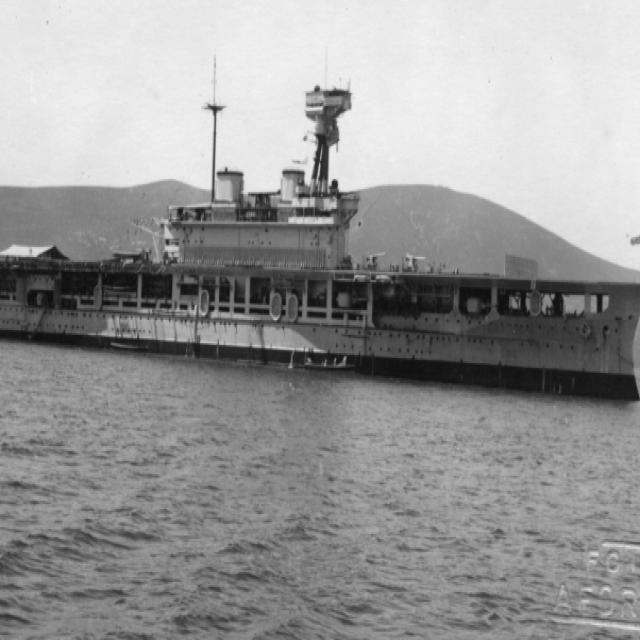Portanaves: (1, 77, 640, 412)
